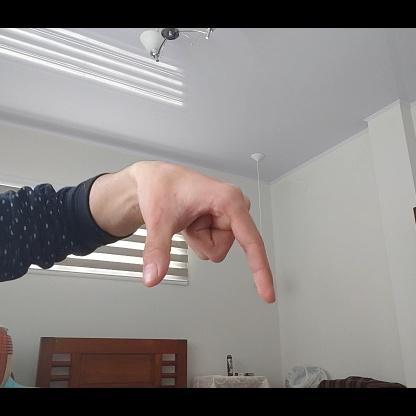Q: (142, 164, 278, 302)
